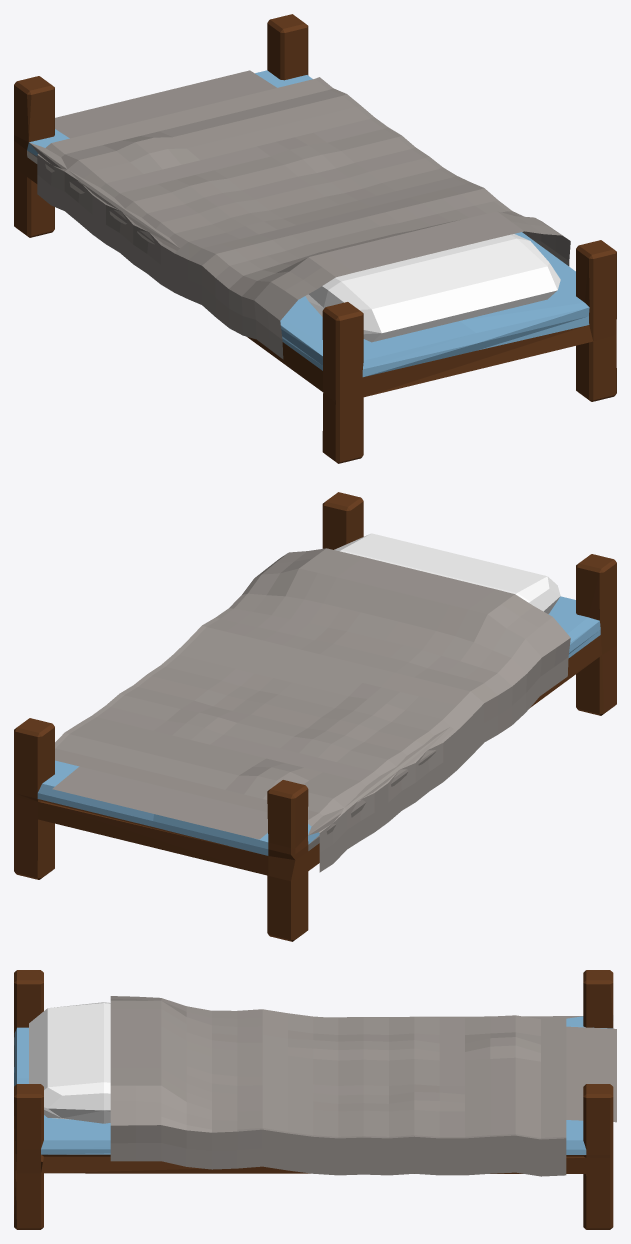
Rendered from Bed.fbx.
3 renders of one model, top to bottom at view 1: azimuth 30°, elevation 25°; view 2: azimuth 150°, elevation 25°; view 3: azimuth 270°, elevation 25°, orthographic. The views are drawn at different scales.
Parts seen in each view (by area): view 1: Bed; view 2: Bed; view 3: Bed.
Boxes of the visible parts, <box> form: Bed: <box>14,14,616,463</box>; Bed: <box>14,492,616,941</box>; Bed: <box>14,970,616,1229</box>.
Size of the model in its own units: 103 by 50 by 201.
